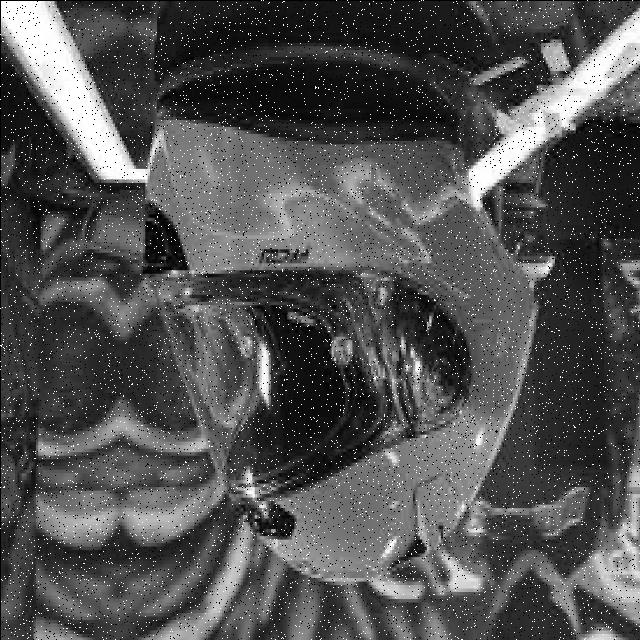Helmet: (127, 96, 531, 588)
